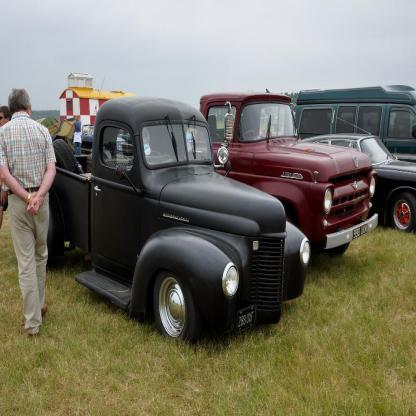Car: (302, 116, 415, 233)
Truck: (47, 95, 311, 345), (187, 88, 376, 254)
